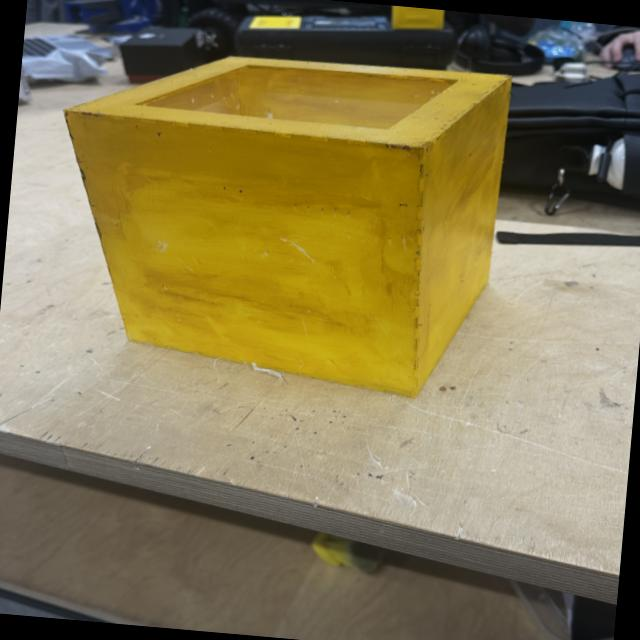yellow_bin: (40, 35, 514, 401)
